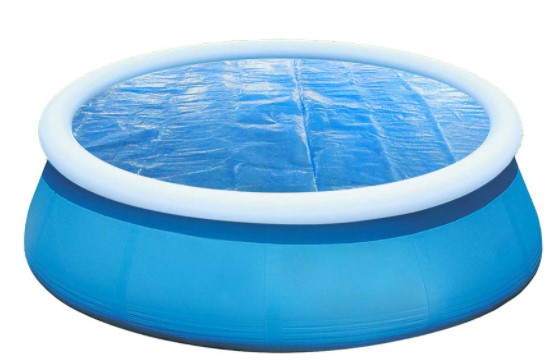havuz: (25, 37, 542, 351)
